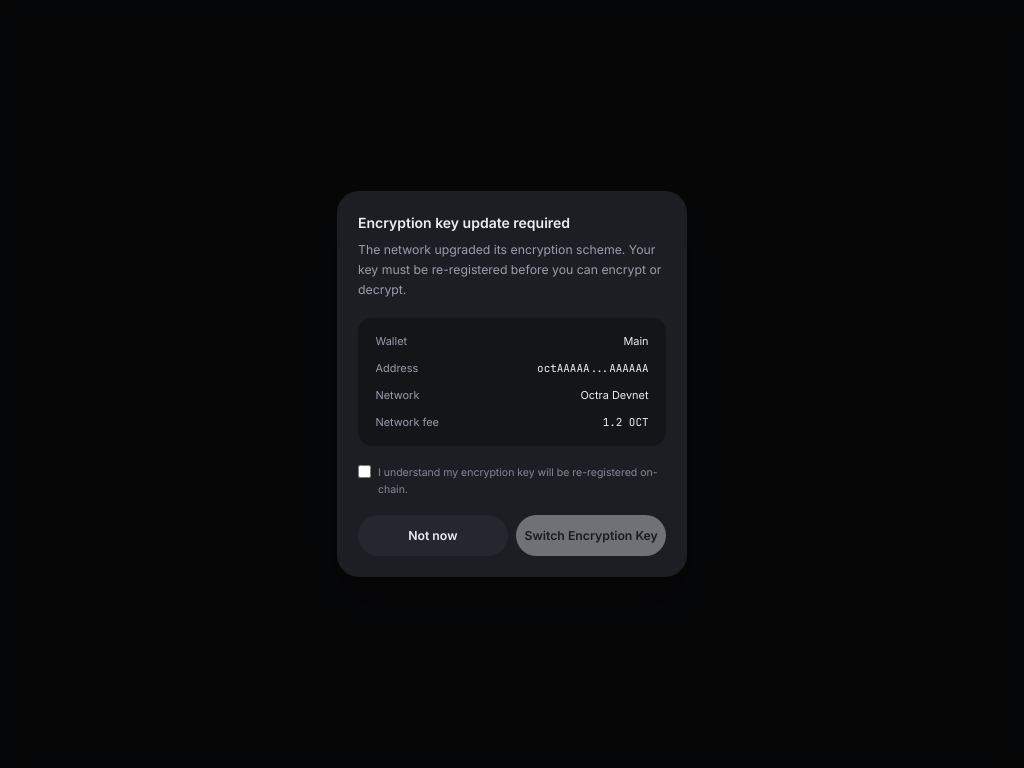
Test: encryption key update review › refuses a changed fee and shows the new one to review again
Later steps or results of the test are not shown.
Expected: the text "1.2 OCT" is shown, [603,414,648,430]
Click the checkbox at (364, 472), box [358,466,371,478]
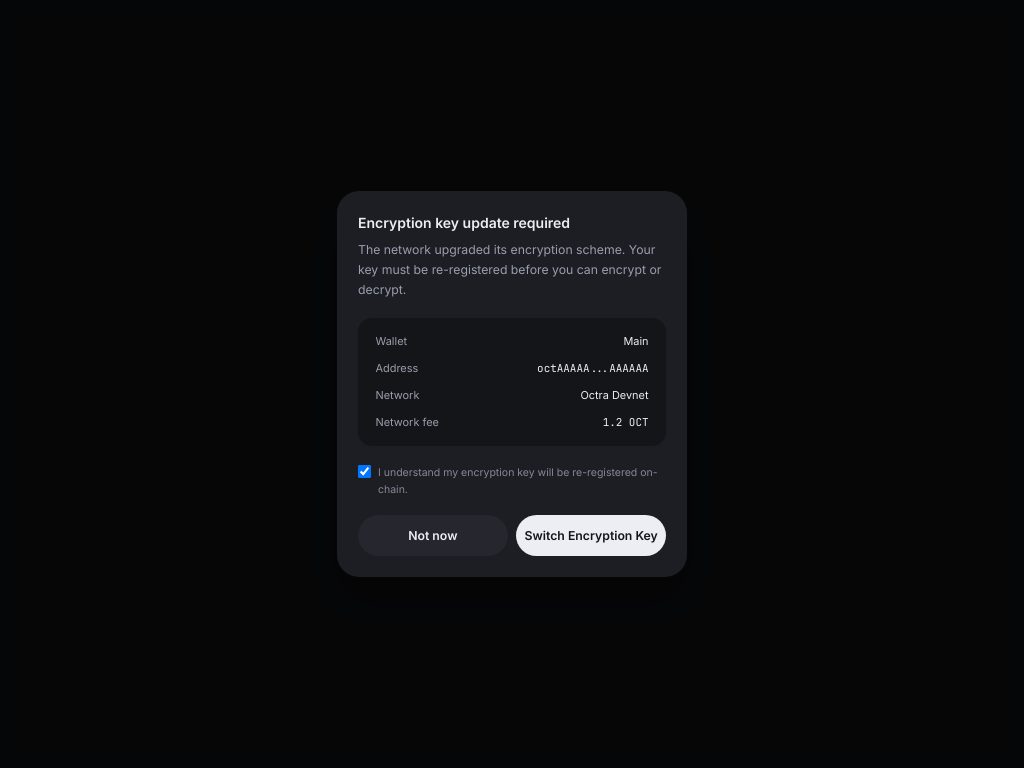
Click the button "Switch Encryption Key" at (591, 536), box [516,515,666,556]
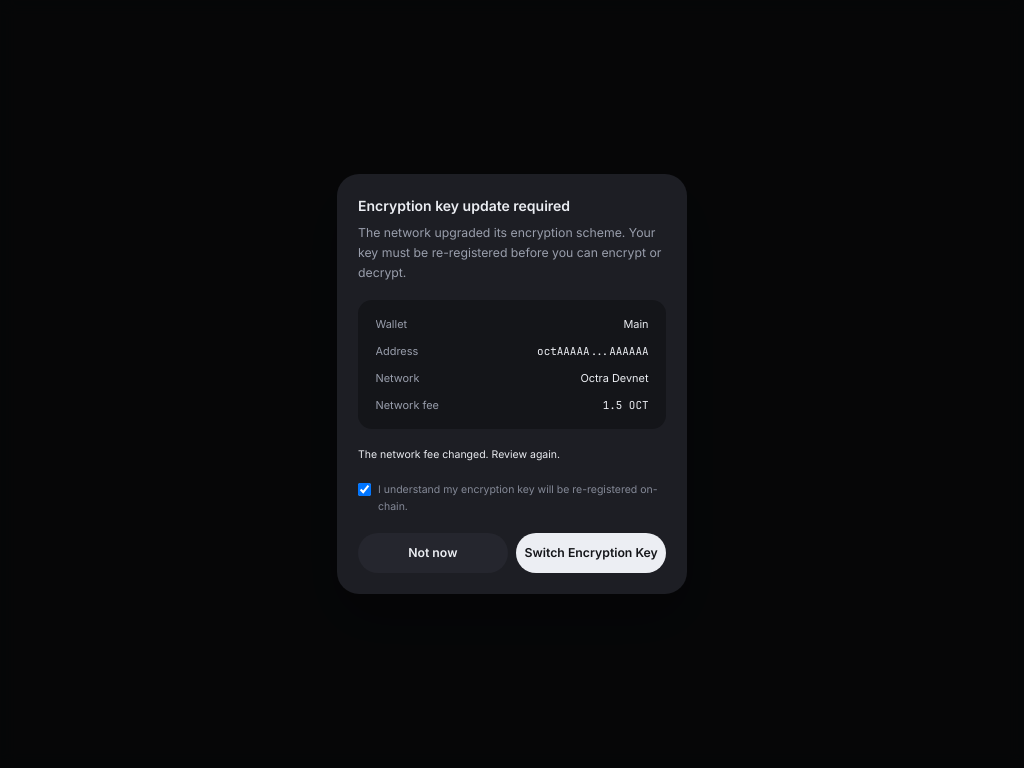
Now the message reads "The network fee changed. Review again.", box [358,448,560,462]
Now the text "1.5 OCT" is shown, box [603,397,648,413]
